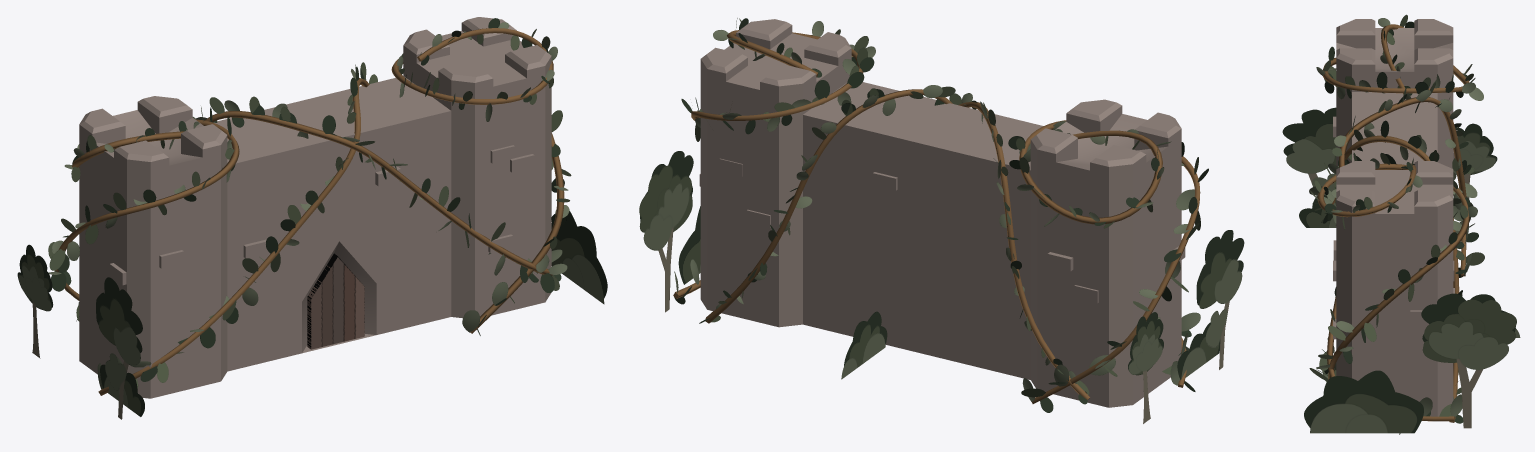
Rendered from BaseWall.fbx.
3 renders of one model, left to right at view 1: azimuth 30°, elevation 25°; view 2: azimuth 150°, elevation 25°; view 3: azimuth 270°, elevation 25°, orthographic. The views are drawn at different scales.
Visible parts, largest first — view 1: Plane, NurbsPath.001, NurbsPath.002, NurbsPath.004, NurbsPath.003, Plane.008, TreeBig1.082, Bush2.023, TreeBig1.081, Bush1.020; view 2: Plane, NurbsPath.002, NurbsPath.003, NurbsPath.001, TreeBig2.042, NurbsPath.004, TreeBig1.082, TreeBig1.081, Bush3.030, Bush1.020, Bush2.023; view 3: Plane, TreeBig2.042, Bush2.023, NurbsPath.001, NurbsPath.002, NurbsPath.004, TreeBig1.082, NurbsPath.003, TreeBig1.081, Bush1.020.
Boxes of the visible parts, x1,y1,x2,y2 form: Plane: [79, 17, 551, 398]; NurbsPath.001: [391, 18, 571, 335]; NurbsPath.002: [48, 107, 239, 321]; NurbsPath.004: [192, 96, 567, 292]; NurbsPath.003: [97, 62, 377, 395]; Plane.008: [307, 253, 364, 349]; TreeBig1.082: [96, 277, 142, 419]; Bush2.023: [551, 211, 607, 304]; TreeBig1.081: [17, 244, 53, 358]; Bush1.020: [100, 364, 144, 416]; Plane: [700, 19, 1181, 407]; NurbsPath.002: [1008, 120, 1208, 412]; NurbsPath.003: [699, 85, 1200, 391]; NurbsPath.001: [681, 18, 875, 141]; TreeBig2.042: [639, 151, 693, 312]; NurbsPath.004: [673, 93, 1089, 404]; TreeBig1.082: [1196, 230, 1244, 369]; TreeBig1.081: [1128, 312, 1163, 423]; Bush3.030: [841, 311, 887, 379]; Bush1.020: [1177, 322, 1220, 379]; Bush2.023: [678, 206, 700, 284]; Plane: [1336, 19, 1453, 416]; TreeBig2.042: [1421, 293, 1516, 428]; Bush2.023: [1304, 370, 1423, 433]; NurbsPath.001: [1309, 153, 1477, 382]; NurbsPath.002: [1316, 14, 1484, 277]; NurbsPath.004: [1319, 82, 1474, 434]; TreeBig1.082: [1282, 107, 1336, 196]; NurbsPath.003: [1321, 120, 1467, 423]; TreeBig1.081: [1453, 123, 1497, 198]; Bush1.020: [1299, 195, 1336, 227].
Size of the model in its own units: 617 by 331 by 290.
Materials: 10 (8 with a texture image).
